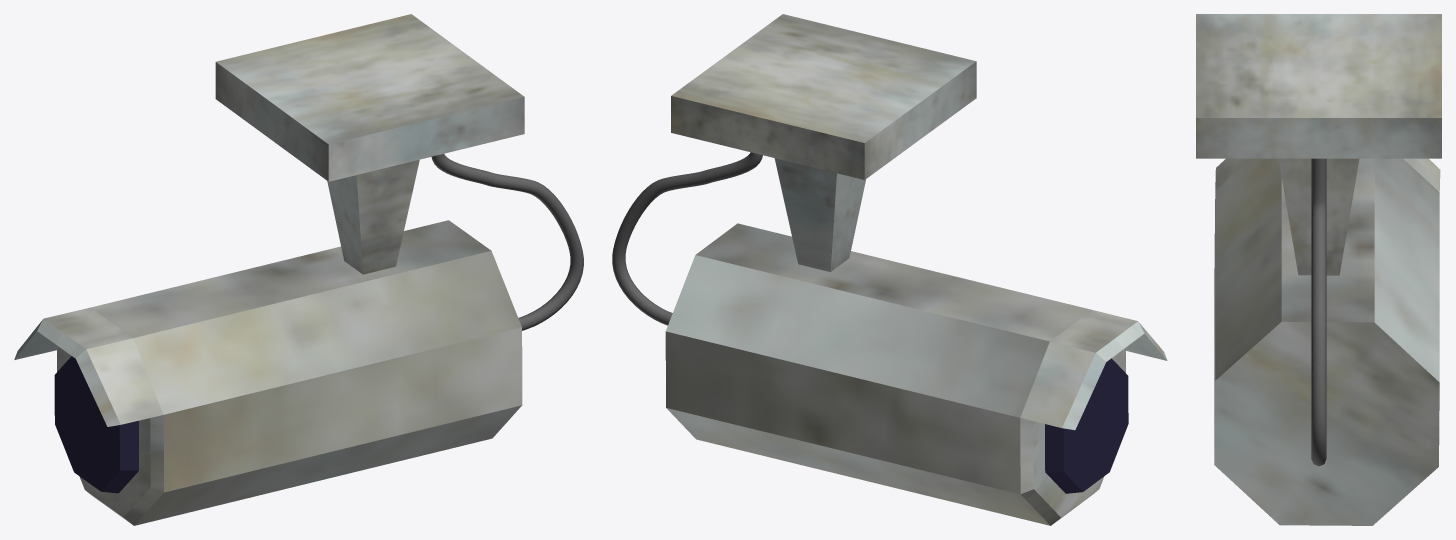
File: cctv.glb
3 renders of one model, left to right at view 1: azimuth 30°, elevation 25°; view 2: azimuth 150°, elevation 25°; view 3: azimuth 270°, elevation 25°, orthographic. The views are drawn at different scales.
Visible parts, largest first — view 1: Cylinder.001_1, Cube.003_2, NurbsPath.001_0; view 2: Cylinder.001_1, Cube.003_2, NurbsPath.001_0; view 3: Cylinder.001_1, Cube.003_2, NurbsPath.001_0.
Boxes of the visible parts, box(x1,y1,x2,y2) form: Cylinder.001_1: box(14, 220, 522, 525); Cube.003_2: box(215, 14, 524, 274); NurbsPath.001_0: box(431, 154, 583, 330); Cylinder.001_1: box(665, 223, 1167, 525); Cube.003_2: box(671, 14, 976, 271); NurbsPath.001_0: box(612, 152, 762, 325); Cylinder.001_1: box(1214, 158, 1440, 525); Cube.003_2: box(1196, 14, 1441, 275); NurbsPath.001_0: box(1311, 158, 1326, 466).
Bounding box in the file's own units: 3.09 × 2.11 × 1.16.
3 materials, 1 textured.
